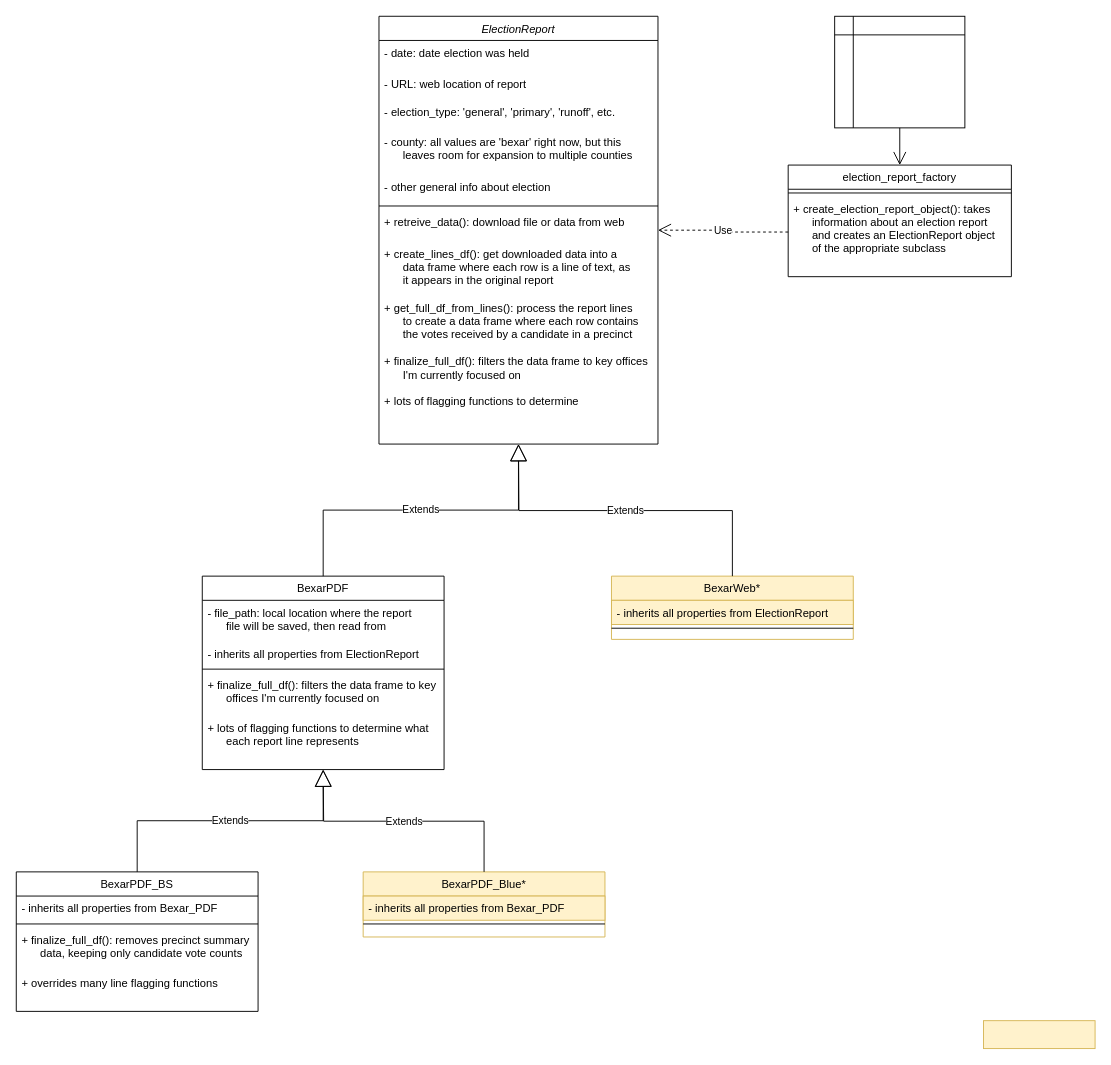
Image size: 1111x1065. Some labels were removed from this diagram. Each missing label, with the centre of its shape:
"*In Development" belongs at [1039,1034].
"Manually created dataset holding information about elections and reports" belongs at [899,71].
